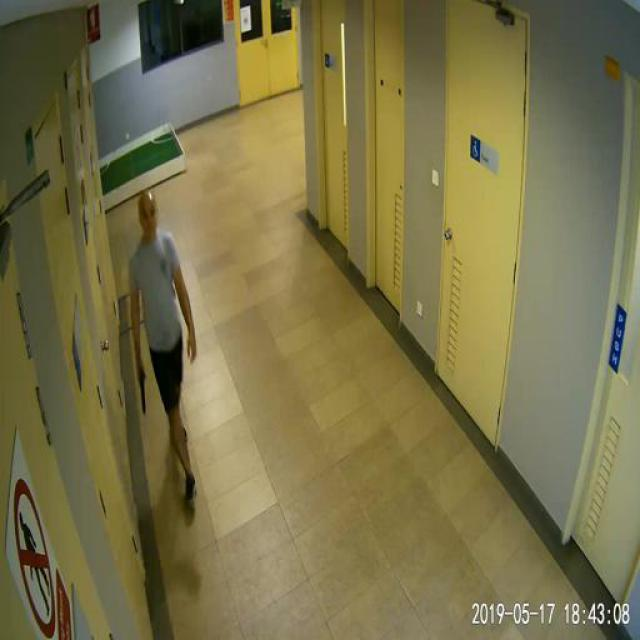Gun: (135, 364, 144, 414)
